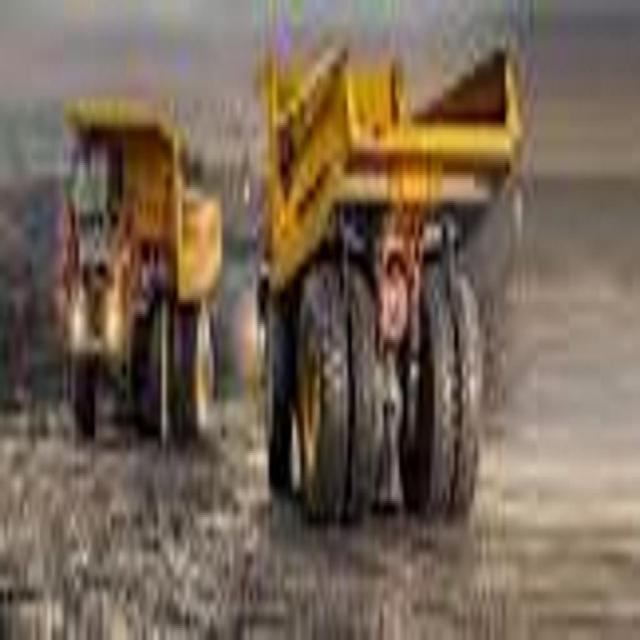dump_truck: (260, 24, 522, 545), (55, 82, 222, 460)
